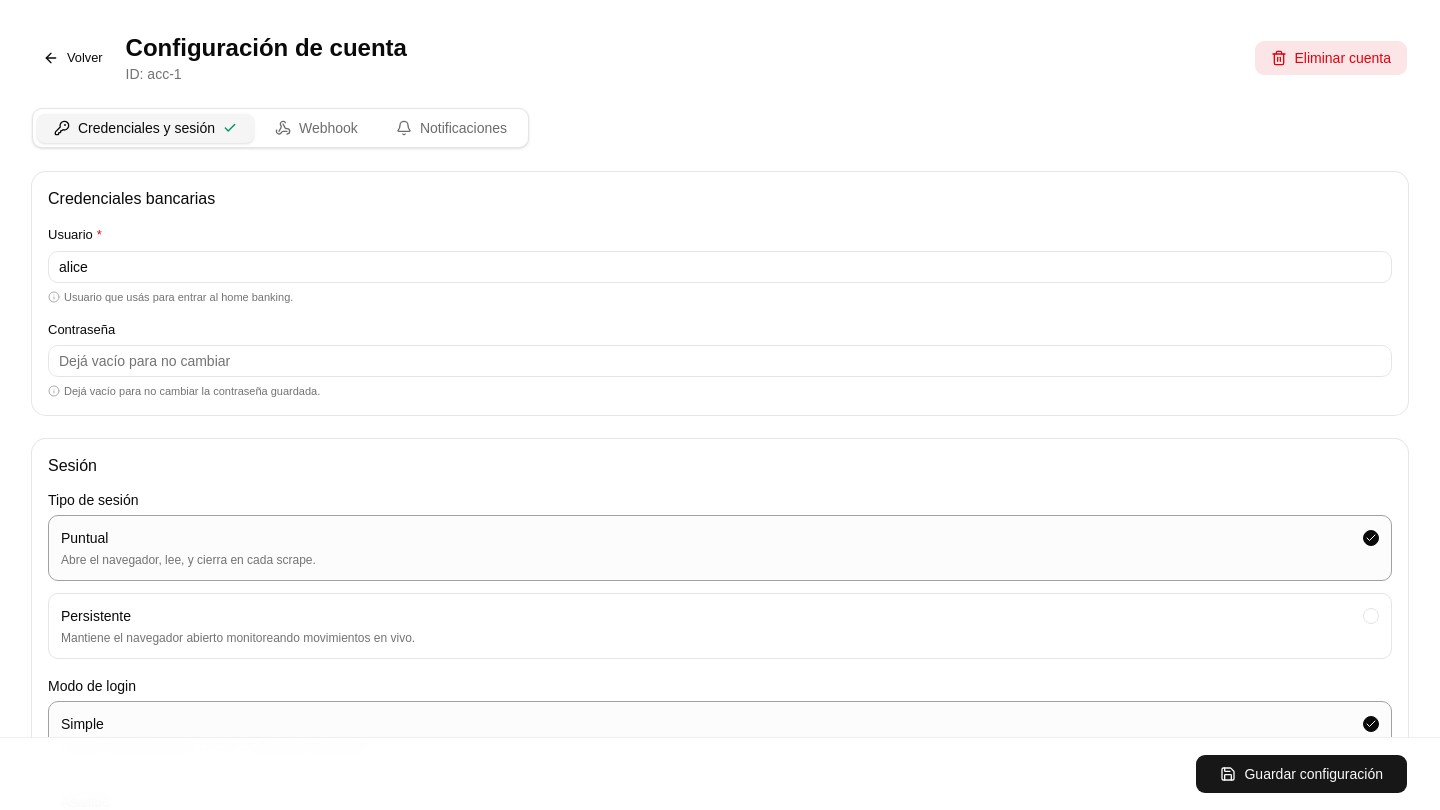
Test: AccountConfig page › switches to the webhooks tab when the first error lives there
Expected: the heading "Configuración de cuenta" is shown, [126,32,407,64]
Click the button "Guardar configuración": {"x": 1302, "y": 774} [1196,754,1408,794]
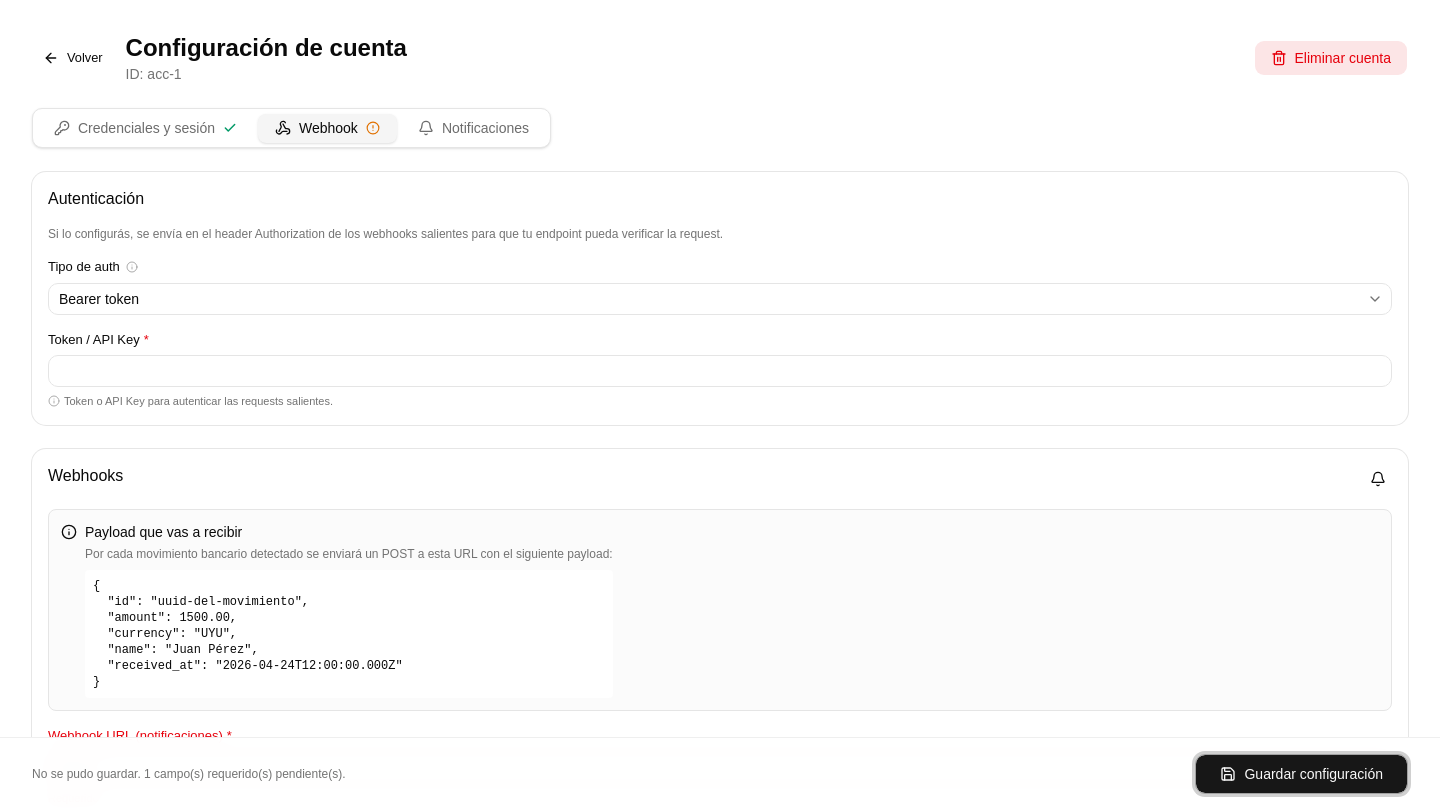
Result: the text "Webhook URL (notificaciones)" is shown at [48,727,223,746]
